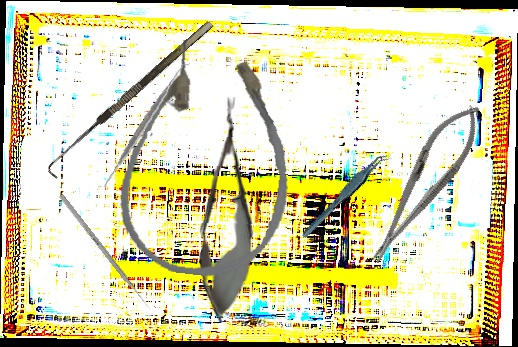Cannula: (110, 34, 306, 285)
Hook Surgical: (42, 20, 222, 180)
Micro Scissor: (194, 96, 259, 322)
Needle Holder: (355, 93, 494, 273)
Pusher: (58, 193, 153, 312)
Spatula Surgical: (84, 63, 204, 188)
Tissue Forceps: (292, 149, 399, 240)
